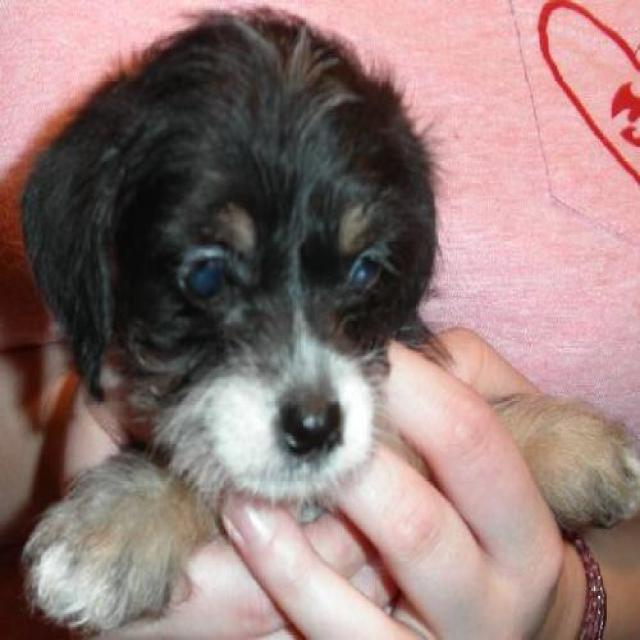dogs: (15, 10, 637, 640)
